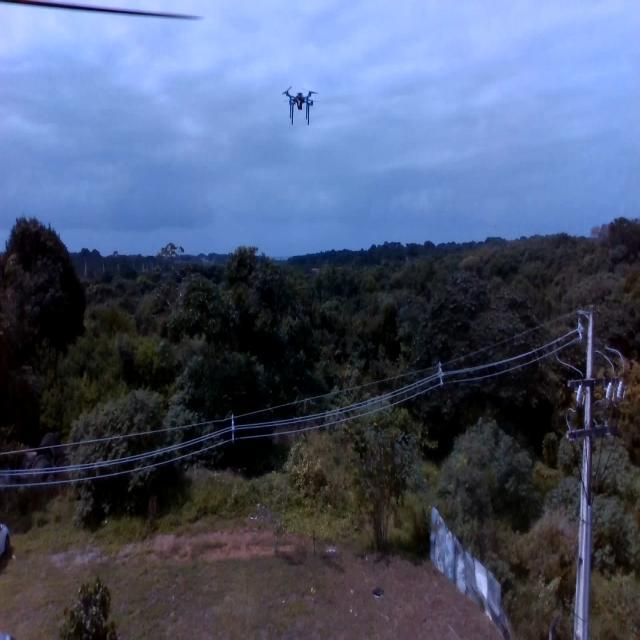-uav-: (280, 80, 322, 135)
